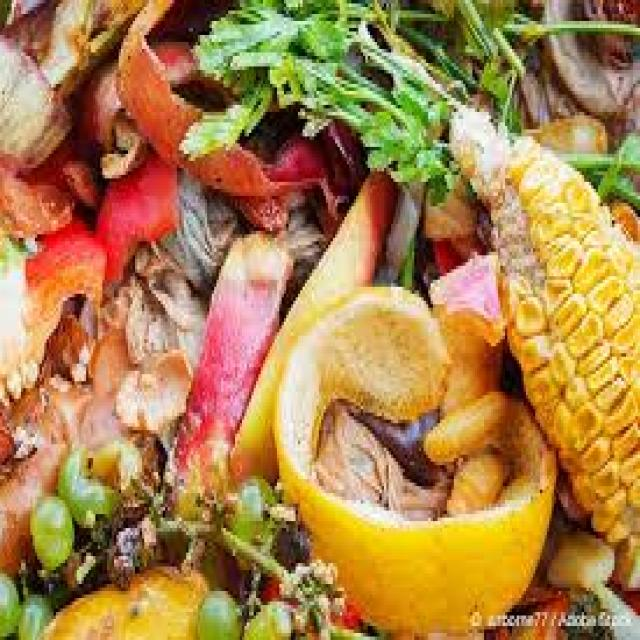food_waste: (22, 29, 627, 582), (55, 75, 311, 543), (432, 75, 618, 557)
